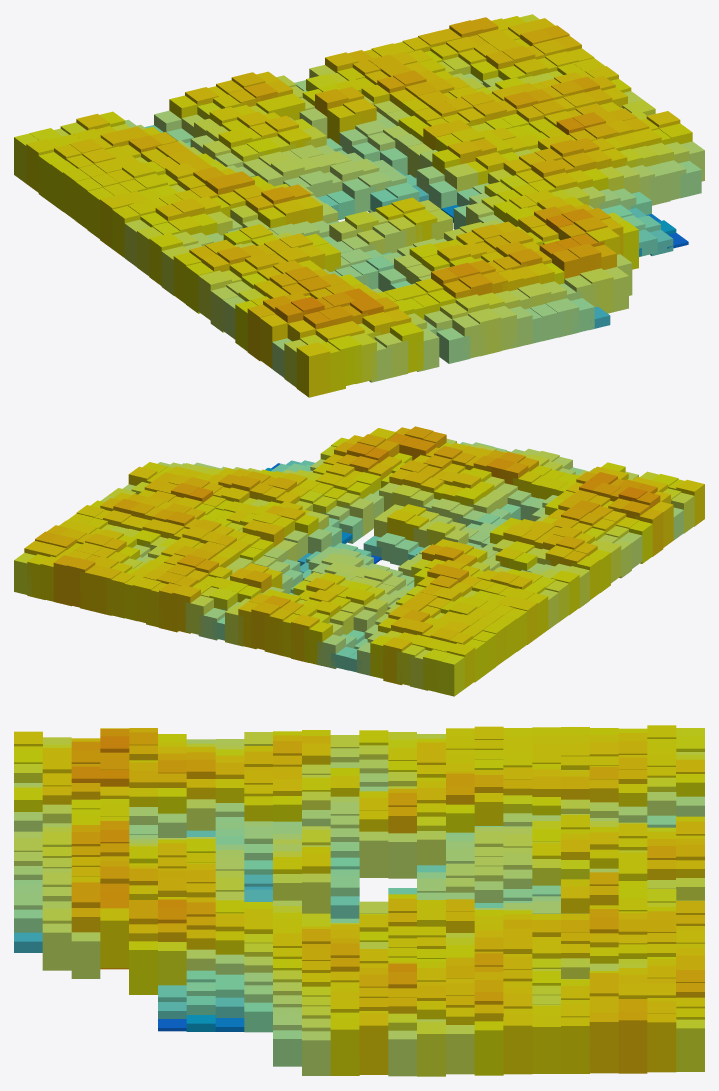
Rendered from population.glb.
The picture shows the model from 3 angles, top to bottom: view 1: azimuth 30°, elevation 25°; view 2: azimuth 150°, elevation 25°; view 3: azimuth 270°, elevation 25°; orthographic projection. The views are drawn at different scales.
Visible parts, largest first — view 1: population; view 2: population; view 3: population.
Boxes of the visible parts, box(x1,y1,x2,y2) form: population: box(14, 14, 704, 397); population: box(14, 426, 704, 696); population: box(14, 725, 704, 1076).
Size of the model in its own units: 2431 by 244 by 2396.
